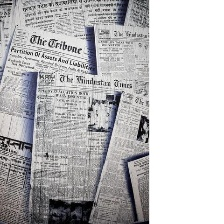news_paper: (25, 68, 149, 224), (0, 24, 95, 224), (84, 88, 150, 224), (17, 0, 130, 56), (88, 22, 150, 82), (124, 150, 150, 224), (0, 0, 19, 80), (118, 0, 150, 31)
